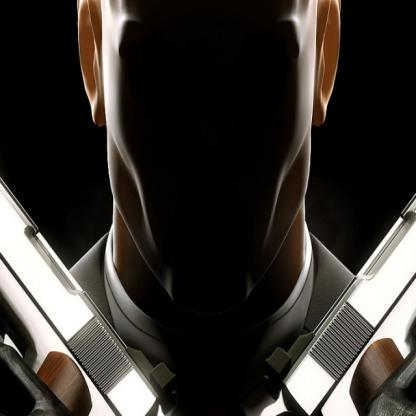gun: (0, 41, 186, 415), (249, 26, 416, 415)
